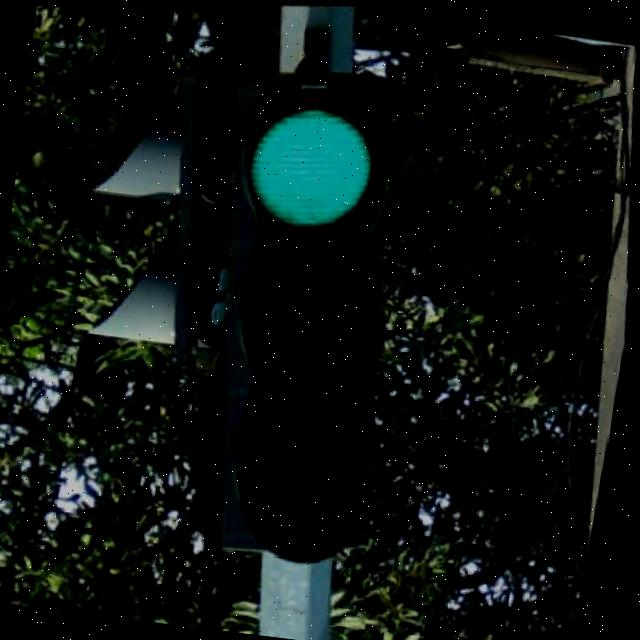green_light: (156, 51, 452, 572)
